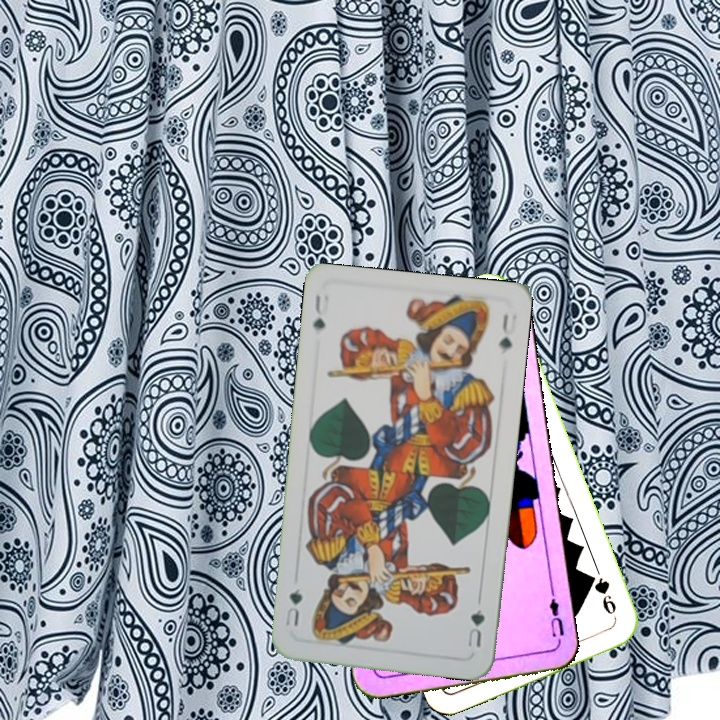EU: (541, 587, 567, 640)
G9: (585, 570, 619, 618)
GU: (463, 605, 487, 650), (309, 289, 328, 333)
